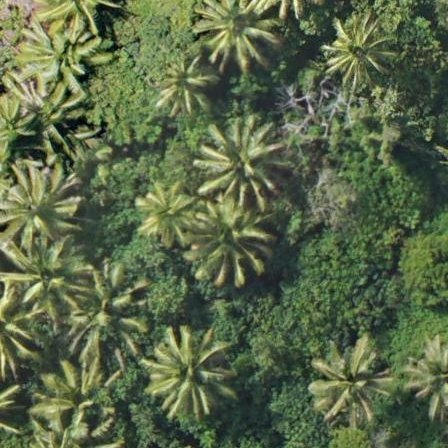palm_tree: (30, 351, 122, 448), (193, 115, 284, 212), (181, 194, 270, 289), (307, 333, 394, 425), (147, 327, 229, 415), (19, 12, 107, 89), (1, 159, 70, 253), (1, 237, 86, 313), (192, 1, 278, 67), (324, 17, 397, 91), (152, 56, 214, 114), (135, 177, 192, 238), (24, 426, 85, 448)
